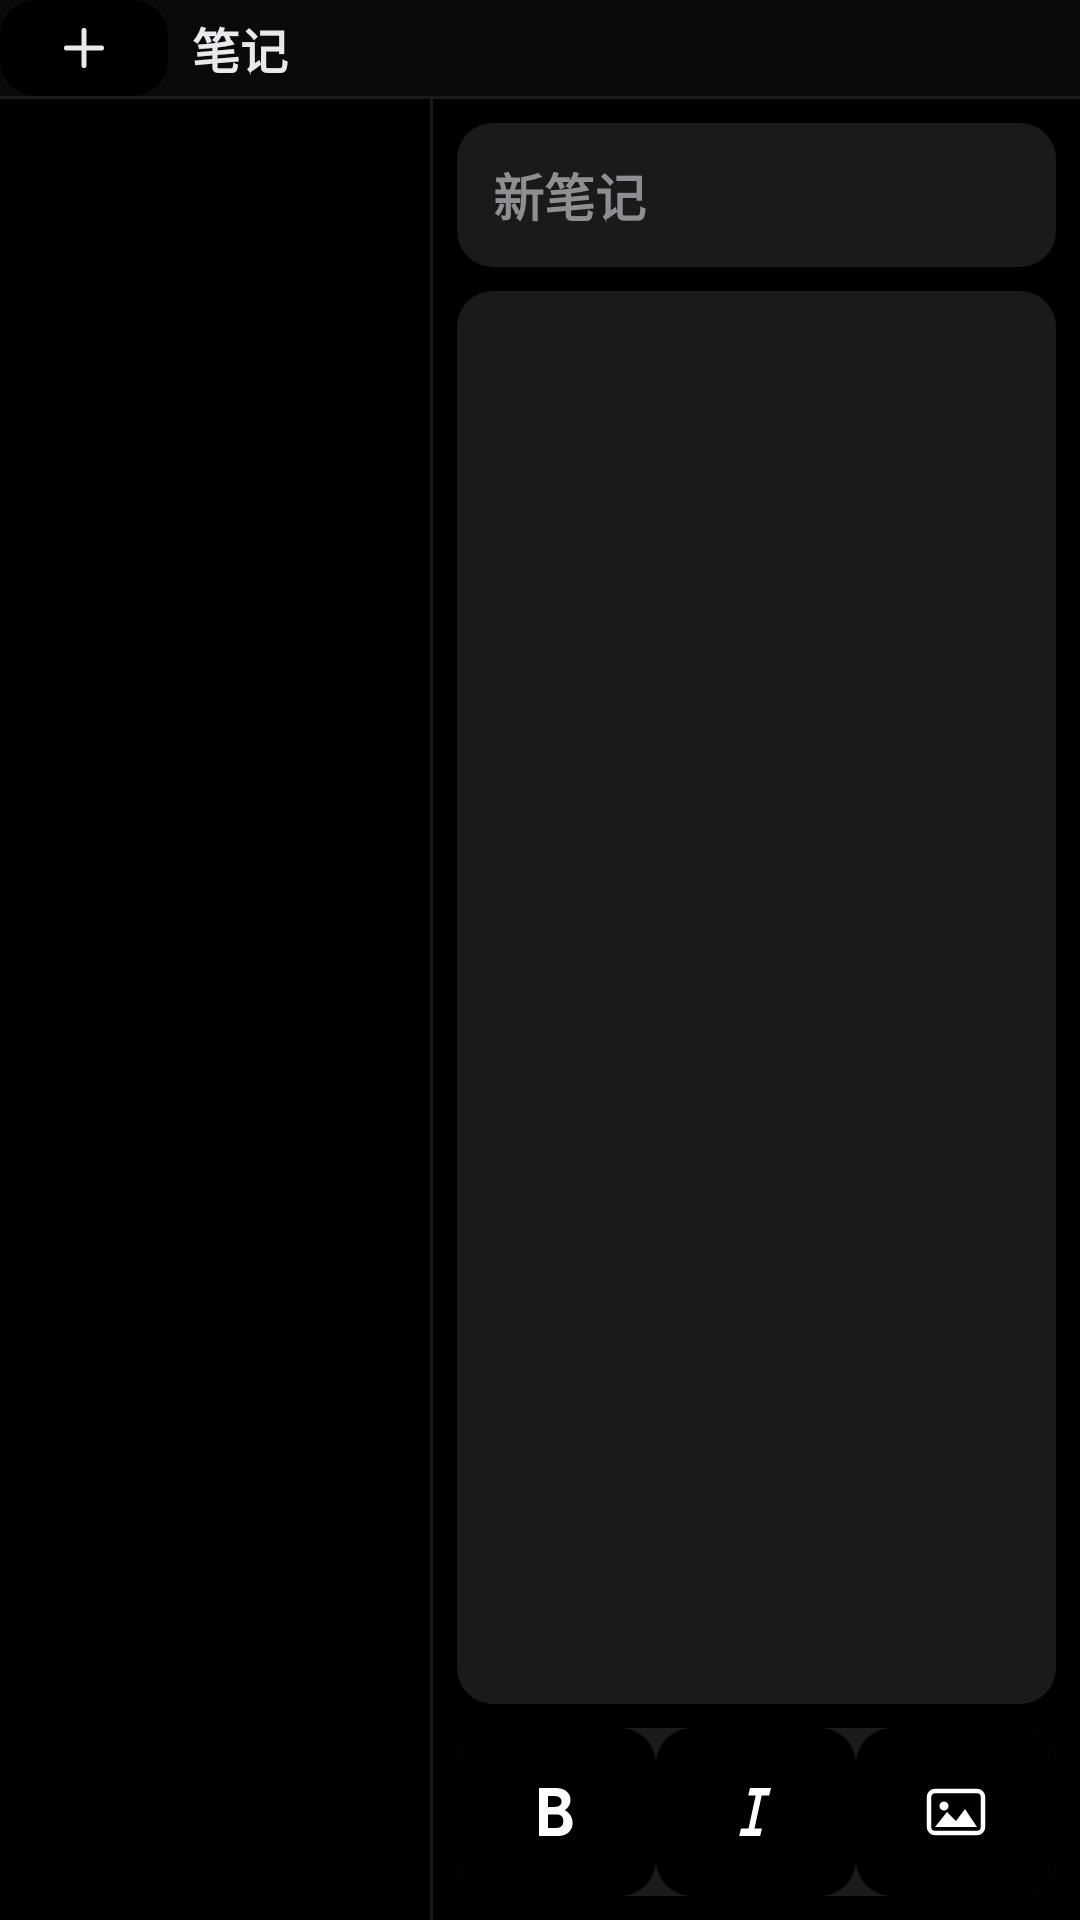

Point at icon controls on the screen. Image size 1080*1920, points as (x=x, y=y).
加粗: (x=556, y=1812)
插图: (x=956, y=1812)
斜体: (x=756, y=1812)
